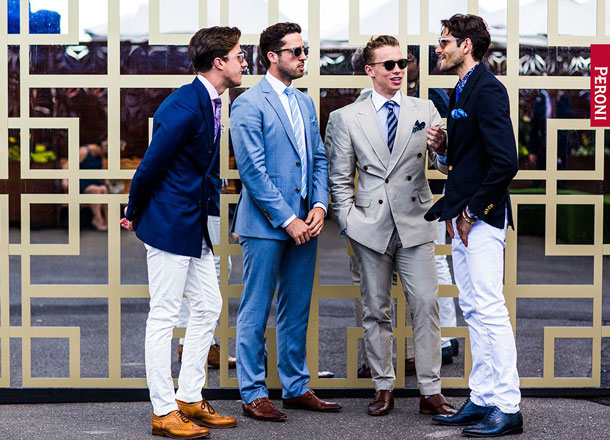Person: (111, 24, 249, 438), (326, 35, 455, 427), (227, 22, 345, 429), (434, 12, 524, 440)
